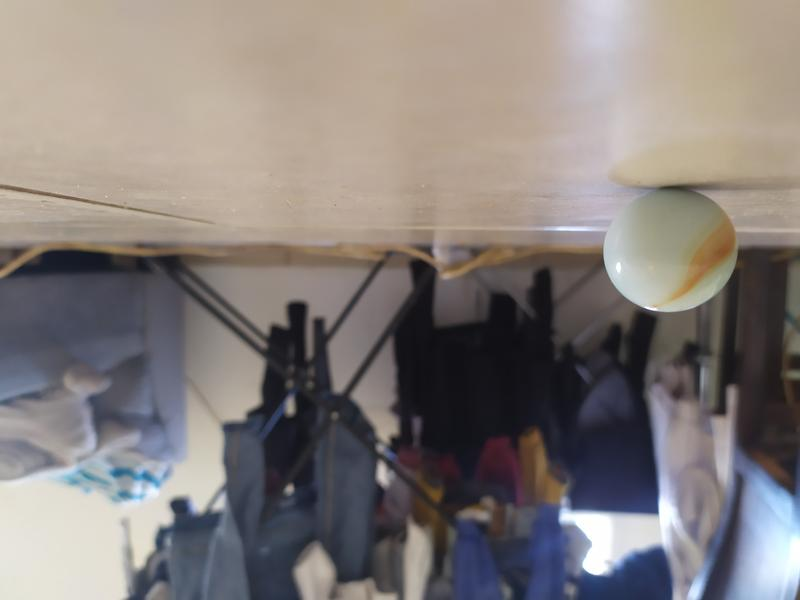Warning: (599, 185, 742, 315)
